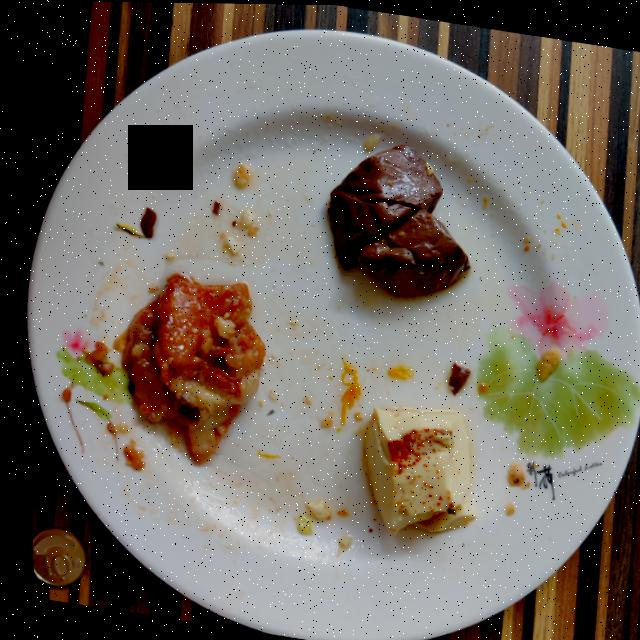Kabayaki sea bream fillet: (110, 272, 260, 463)
coin: (25, 526, 81, 586)
pig blood curd: (325, 143, 466, 296)
